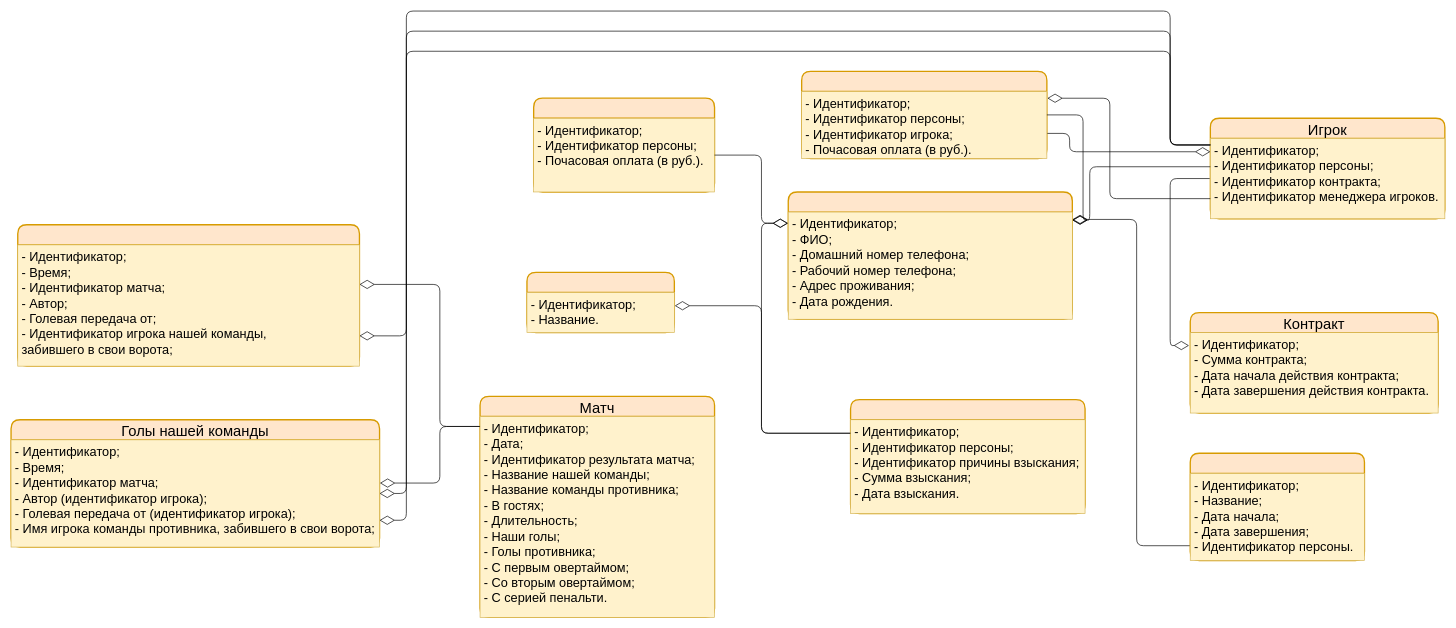
The diagram is 1456 pixels wide and 628 high, and some of its shapes have lost their labels. The shapes that lost their labels are listed below. From the top down, each one's box as (x1, y1, x2, y2) in pixels, then its label:
(801, 70, 1047, 159): Персональные менеджеры игроков
(533, 97, 715, 192): Тренер
(787, 191, 1073, 320): Персона (персональная информаация)
(17, 224, 360, 366): Голы команды противника
(526, 271, 675, 333): Причина взыскания
(850, 399, 1085, 514): Взыскание
(1189, 452, 1365, 561): Дисквалификация
